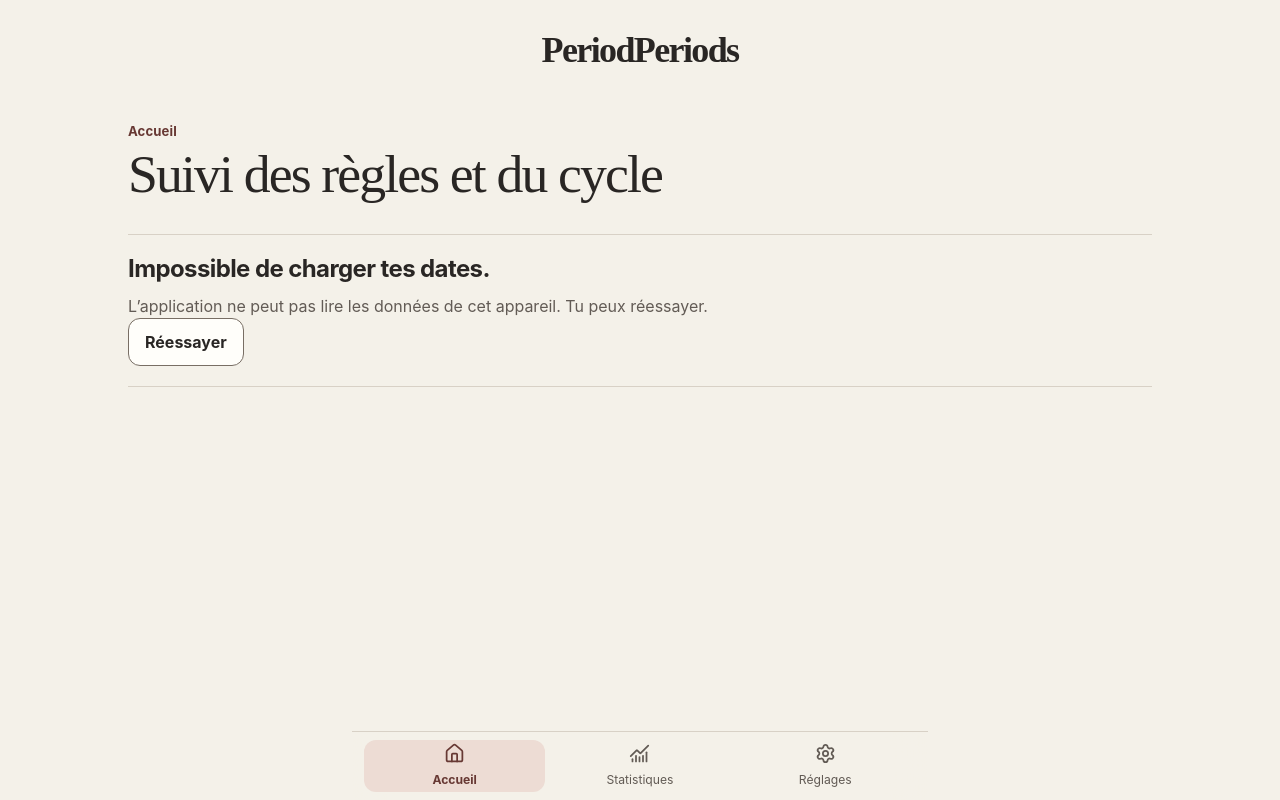
Test case: PeriodPeriods app › retries when the local data cannot be loaded
Expected: the message shows "Impossible de charger", [128, 254, 490, 283]
Click the button "Réessayer" at (186,342), box [128, 318, 244, 366]
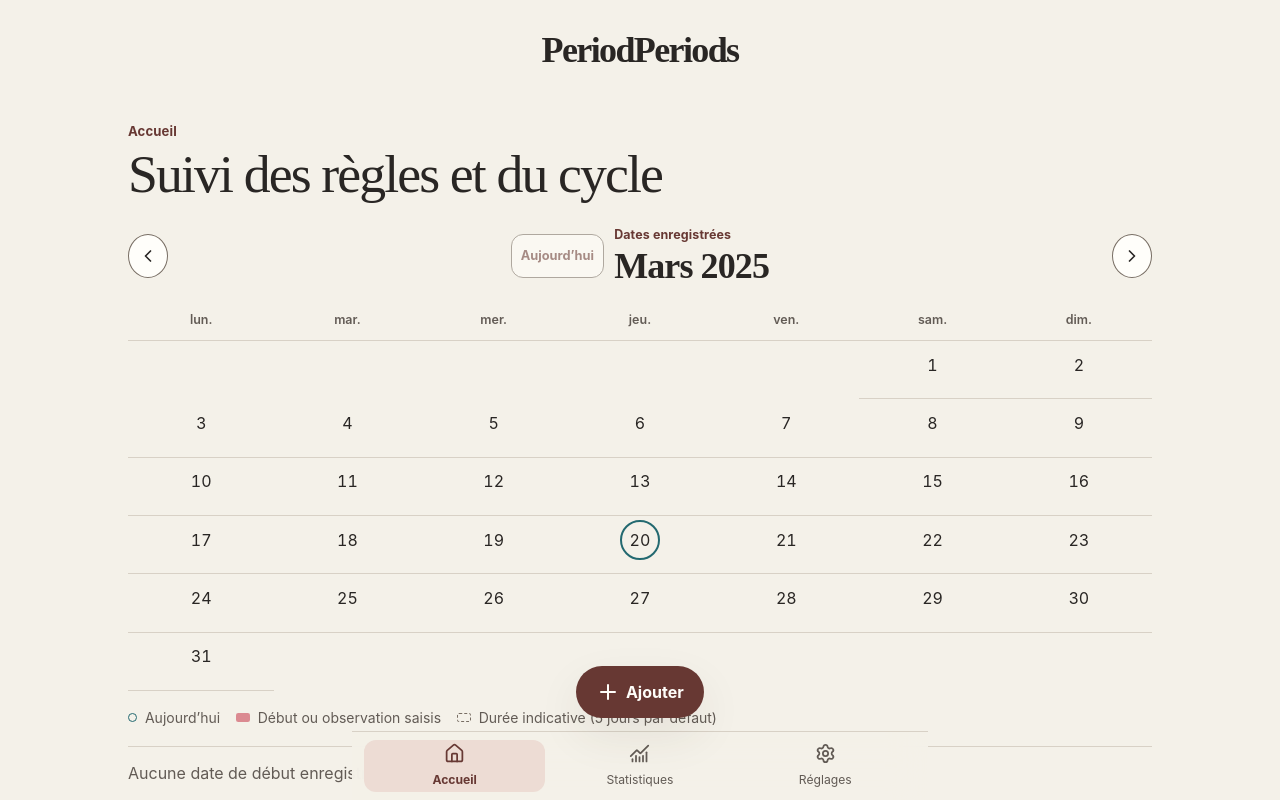
Expected: the button with aria-label "Ajouter un événement" is shown, [576, 666, 704, 718]
